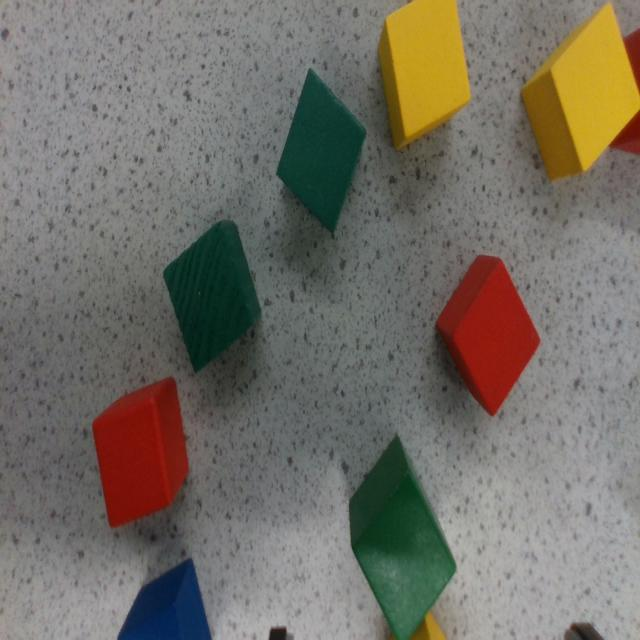blue_cube: (118, 559, 211, 639)
green_cube: (318, 436, 476, 640), (262, 69, 381, 232), (153, 217, 272, 372)
red_cube: (418, 249, 559, 419), (86, 376, 196, 528)
